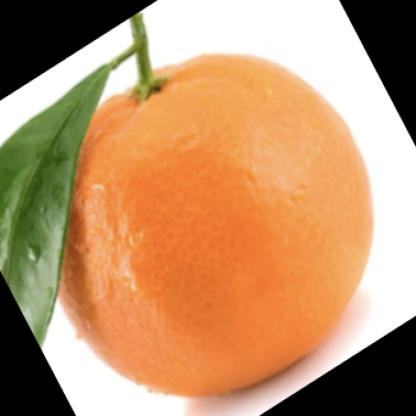fresh: (57, 57, 370, 398)
